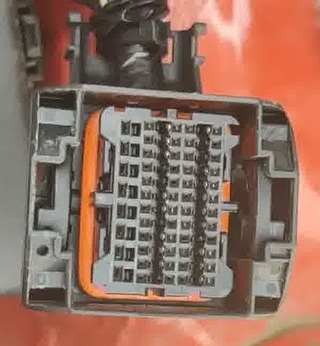connector: (21, 83, 300, 319)
